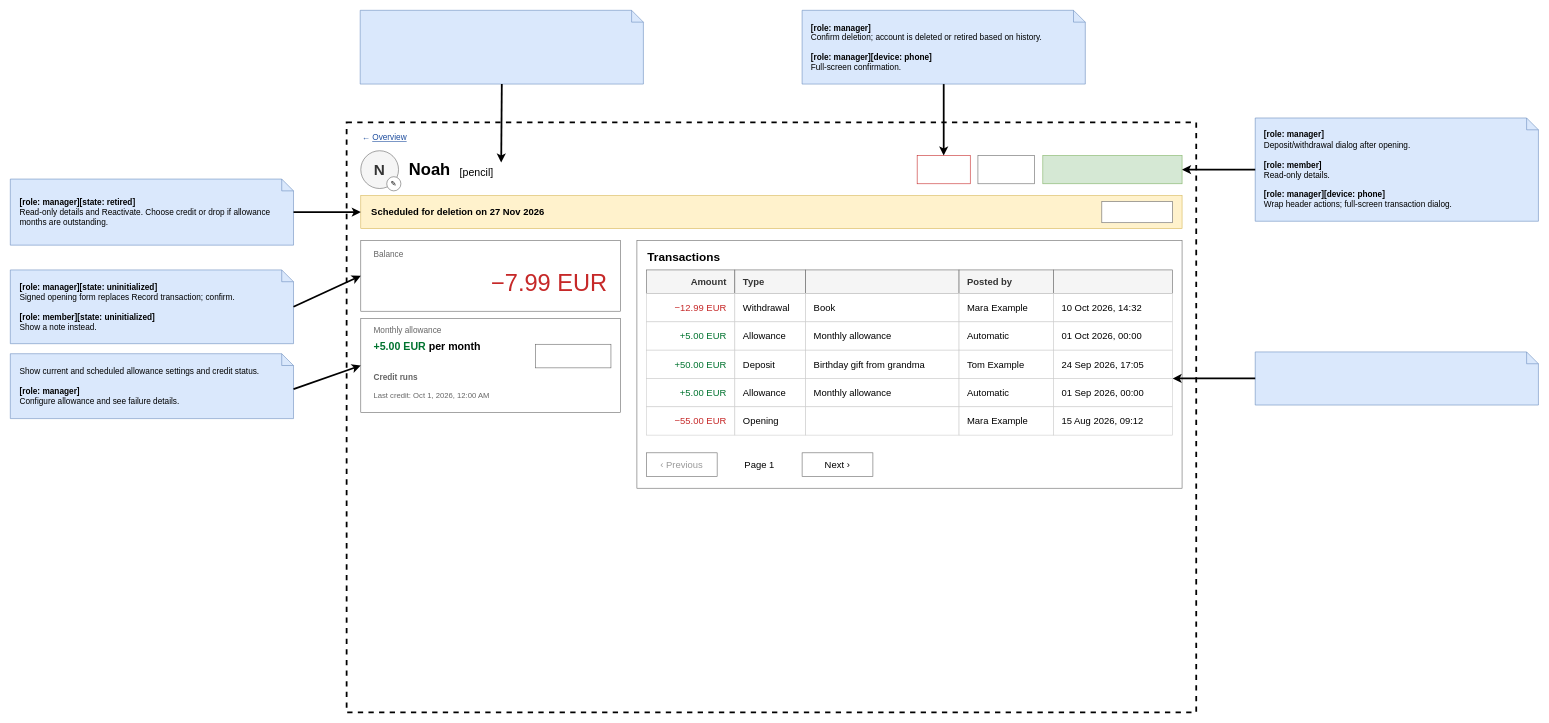
Some shapes in this 1549 by 723 pixel diagram are drawn without their labels. The shapes that lost their labels are listed below. From the top down, each one's centre as x and y in pixels, then its label:
pixel 501 47: [role: manager] Edit the image and name. [role: member] No edit controls.
pixel 943 169: [delete]
pixel 1006 169: [refresh]
pixel 1112 169: + Record transaction
pixel 1137 212: Reactivate
pixel 882 281: Comment
pixel 1113 281: Date
pixel 573 356: Set allowance
pixel 1396 378: Show transactions newest first, with pagination and an empty state.
